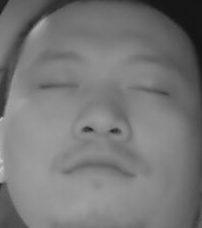blink: (129, 78, 169, 100), (40, 77, 78, 96)
mouth: (61, 147, 136, 189)
